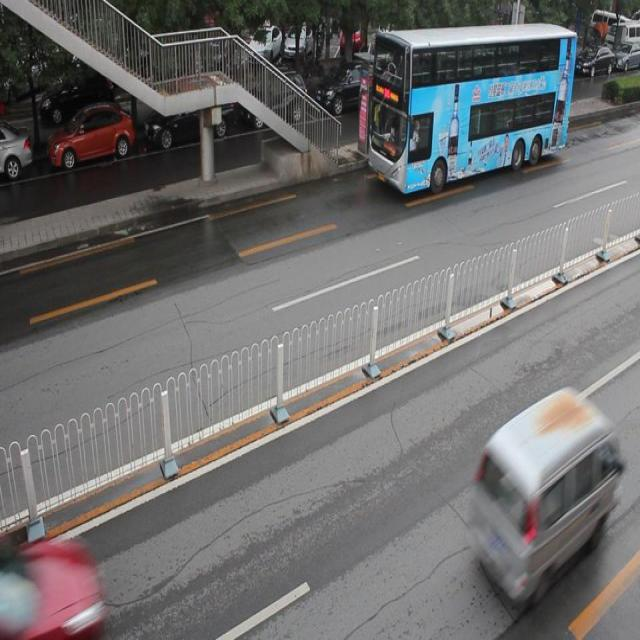car: (49, 105, 136, 172), (144, 92, 236, 150), (314, 62, 389, 122), (243, 72, 308, 130), (465, 67, 513, 123), (1, 127, 34, 181)
truck: (462, 384, 620, 604)
van: (365, 20, 575, 197)
